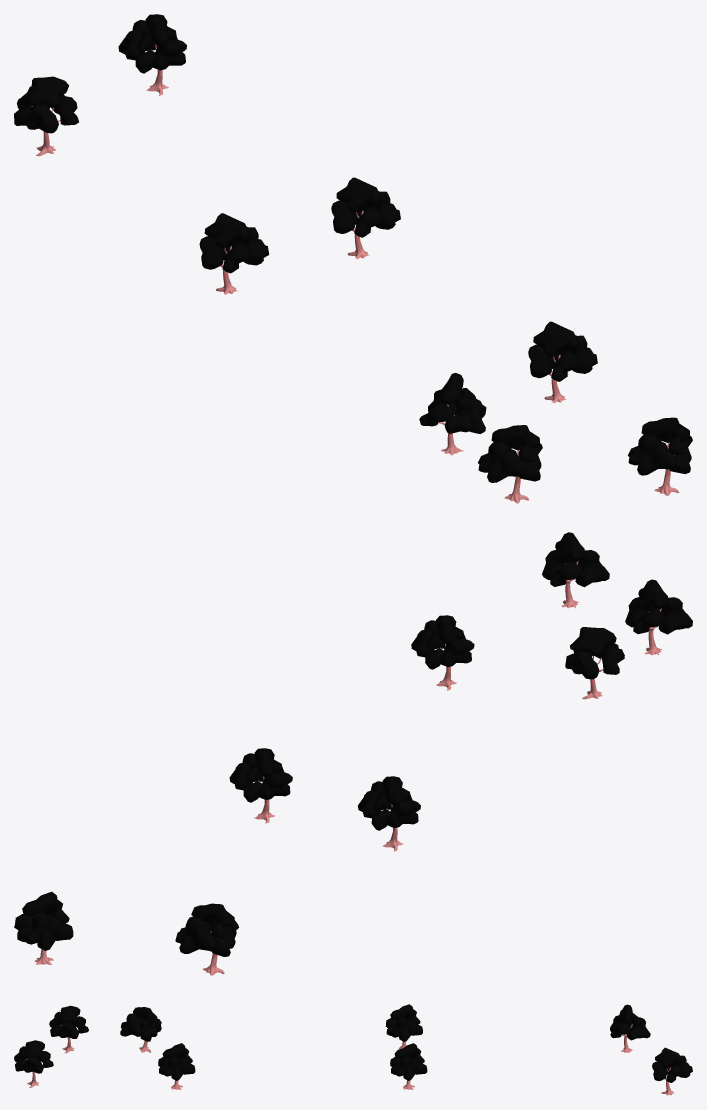
File: SM_ENV_KNVLLG03_Tree_Distance_D.gltf
3 renders of one model, top to bottom at view 1: azimuth 30°, elevation 25°; view 2: azimuth 150°, elevation 25°; view 3: azimuth 270°, elevation 25°, orthographic. The views are drawn at different scales.
Parts seen in each view (by area): view 1: SM_ENV_KNVLLG03_Tree_Distance_D; view 2: SM_ENV_KNVLLG03_Tree_Distance_D; view 3: SM_ENV_KNVLLG03_Tree_Distance_D.
Part boxes in pixels (left/top/right/bottom): SM_ENV_KNVLLG03_Tree_Distance_D: left=14, top=14, right=692, bottom=503; SM_ENV_KNVLLG03_Tree_Distance_D: left=14, top=532, right=692, bottom=975; SM_ENV_KNVLLG03_Tree_Distance_D: left=14, top=1004, right=692, bottom=1095.
Size of the model in its own units: 37.84 by 12.77 by 175.
